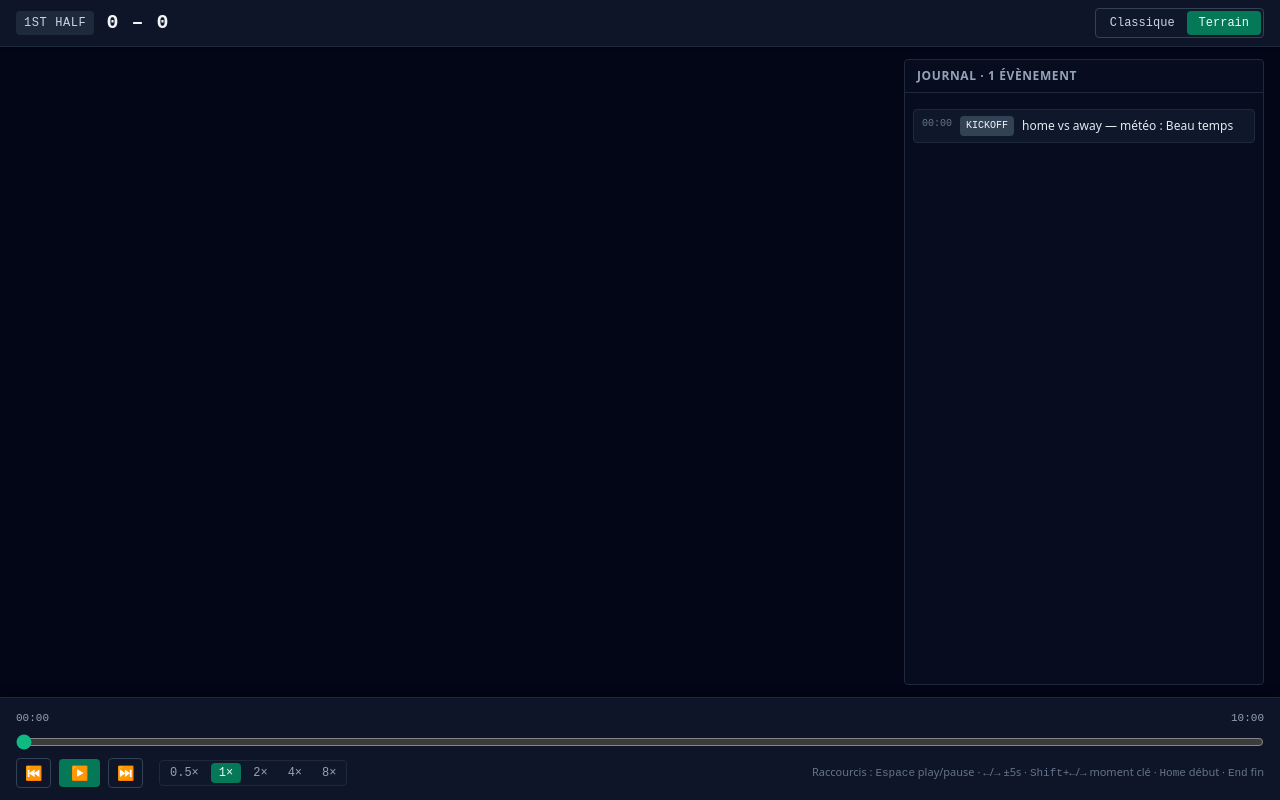
Scenario: <MatchReplayPlayer> — vue terrain par défaut + résolution noms › résout les playerIds en 'Nom (#N Position)' dans le feed des events
// Avance jusqu'au BLOCK event pour le faire apparaître.
Set the slider with test id "replay-scrub" to "60000" at (147, 742), box [16,734,1264,750]
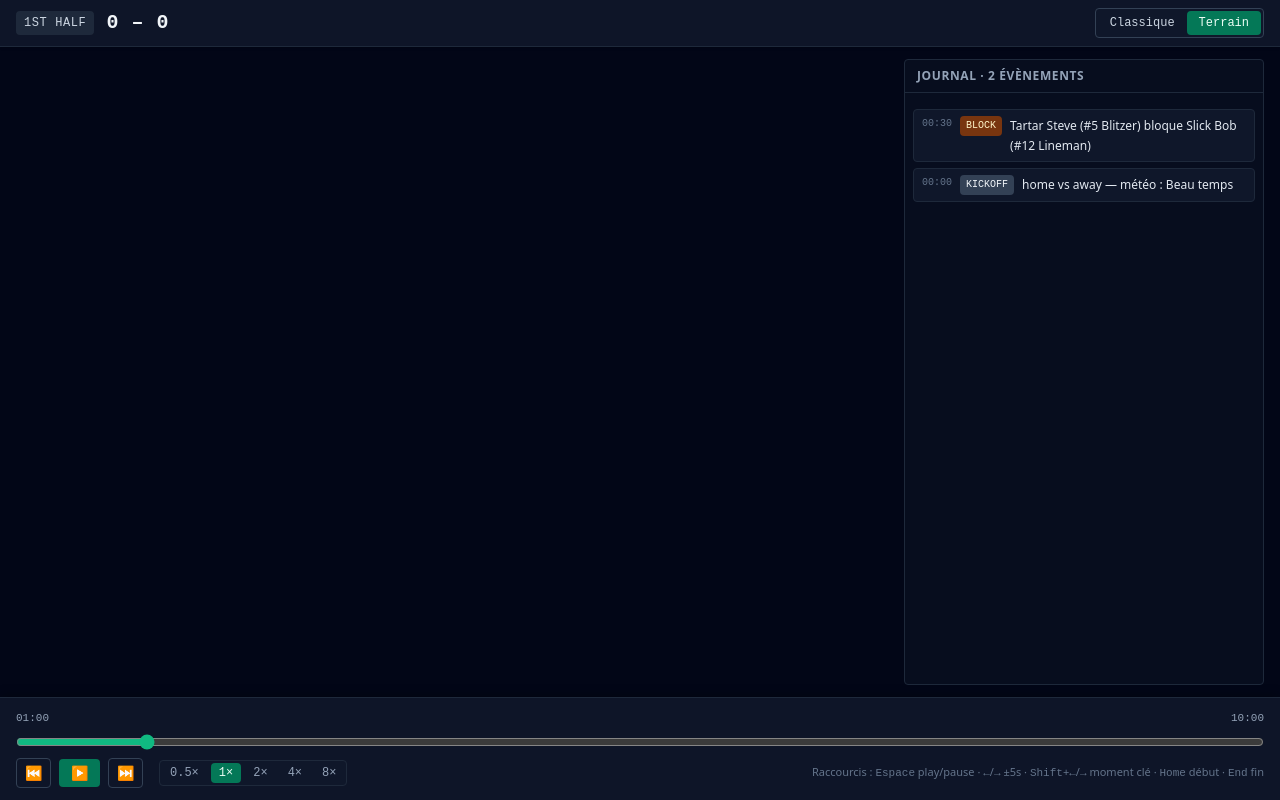
Expected: the list with test id "replay-event-feed" shows "Tartar Steve (#5 Blitzer)", [1010,117,1237,154]
Expected: the list with test id "replay-event-feed" shows "Slick Bob (#12 Lineman)", [1010,117,1237,154]
